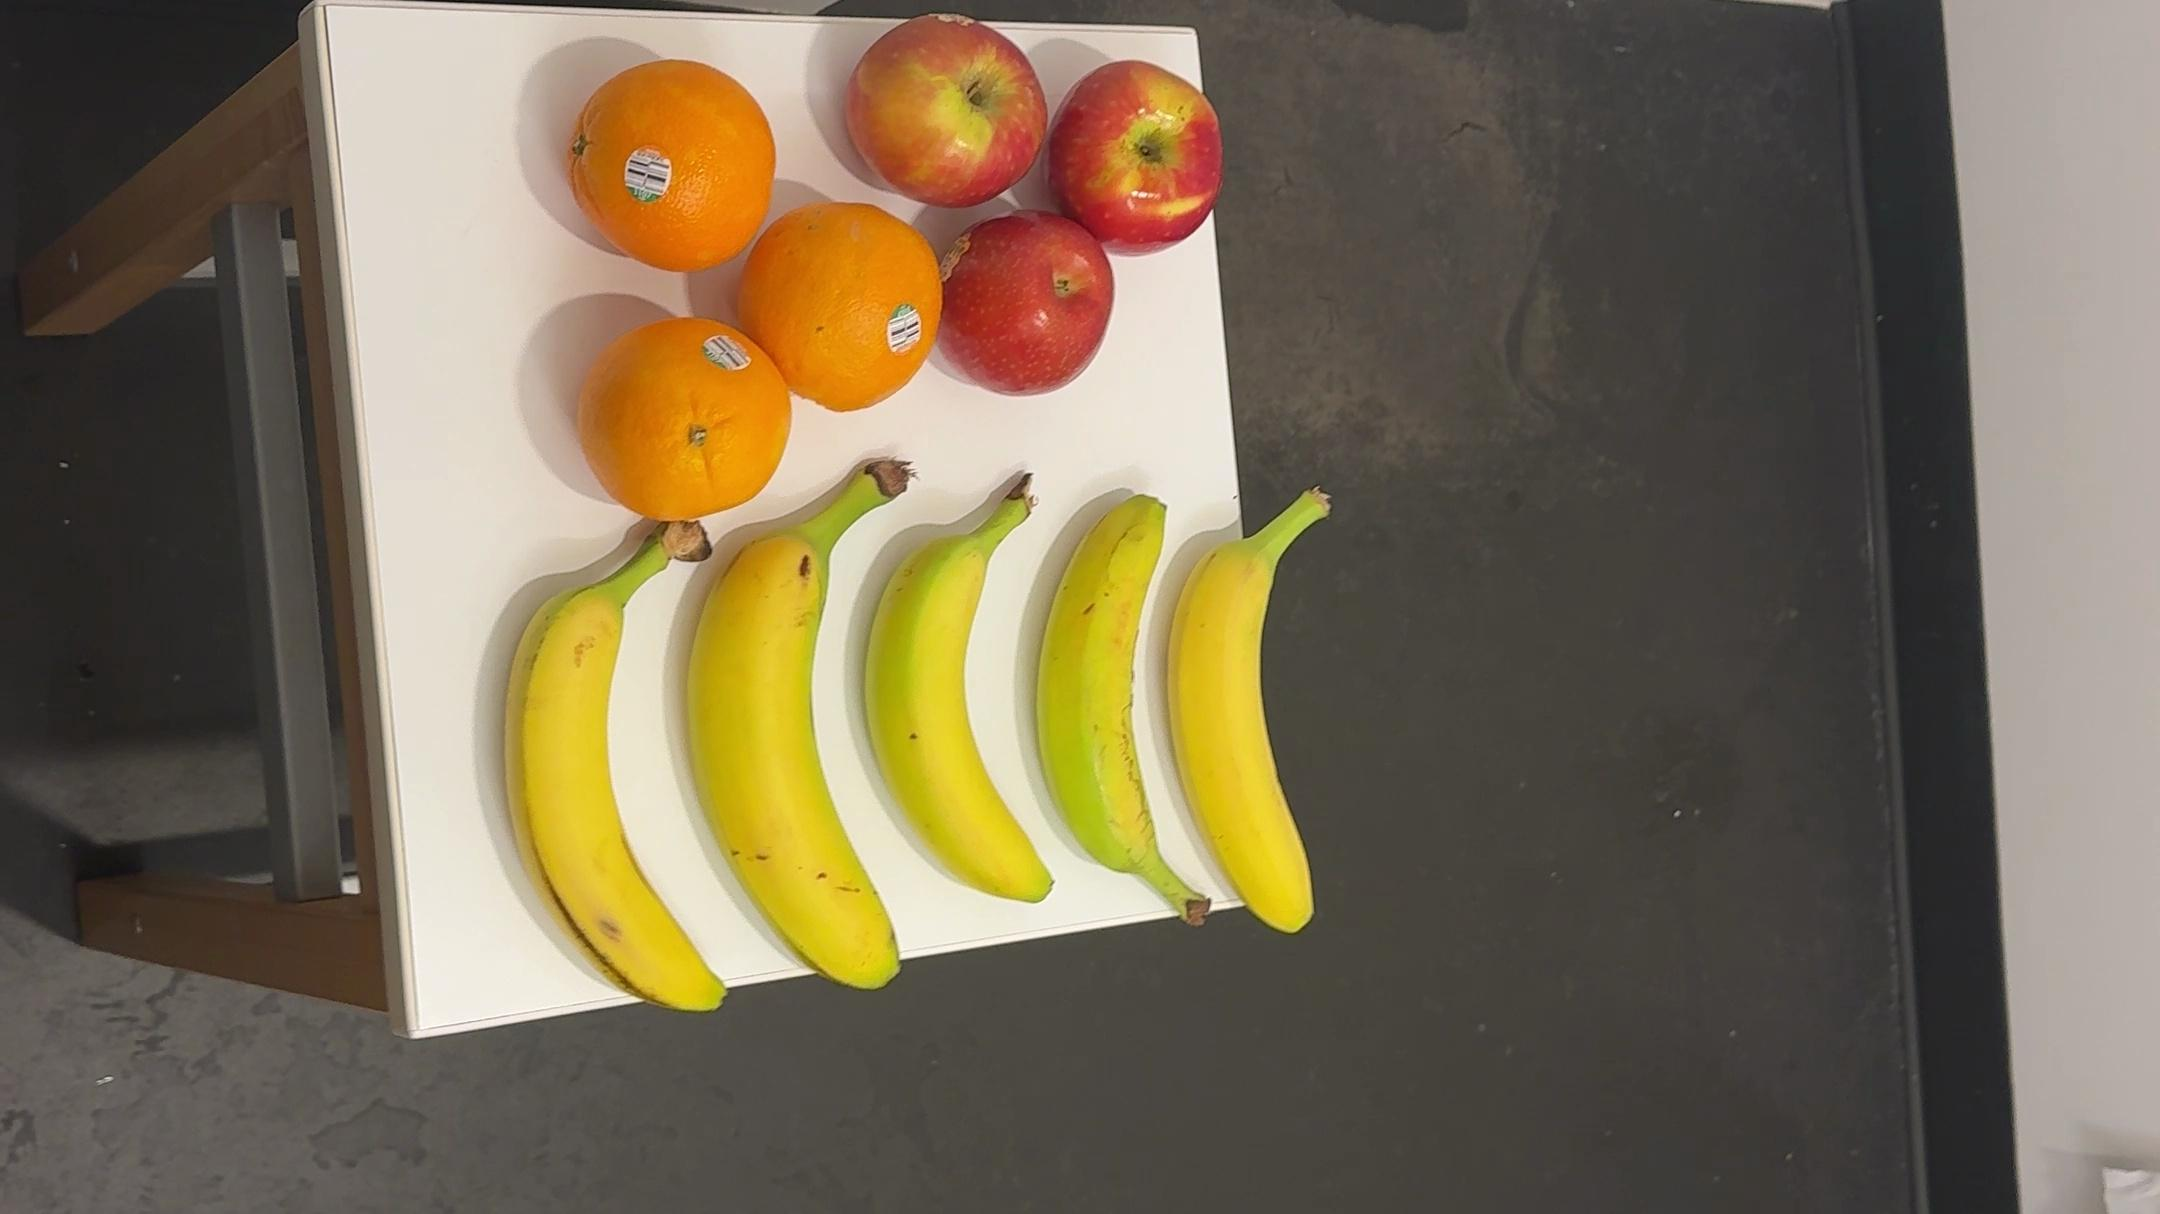apple: (843, 10, 1050, 208), (1049, 59, 1228, 261), (939, 211, 1126, 395)
banana: (702, 451, 945, 1003), (497, 511, 748, 1028), (1027, 470, 1219, 945), (875, 462, 1062, 925), (1168, 470, 1343, 959)
orange: (559, 313, 786, 534), (734, 197, 944, 427), (567, 55, 773, 280)
